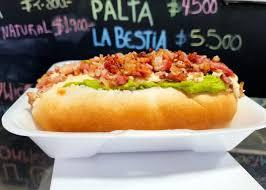Completos: (23, 52, 244, 139)
